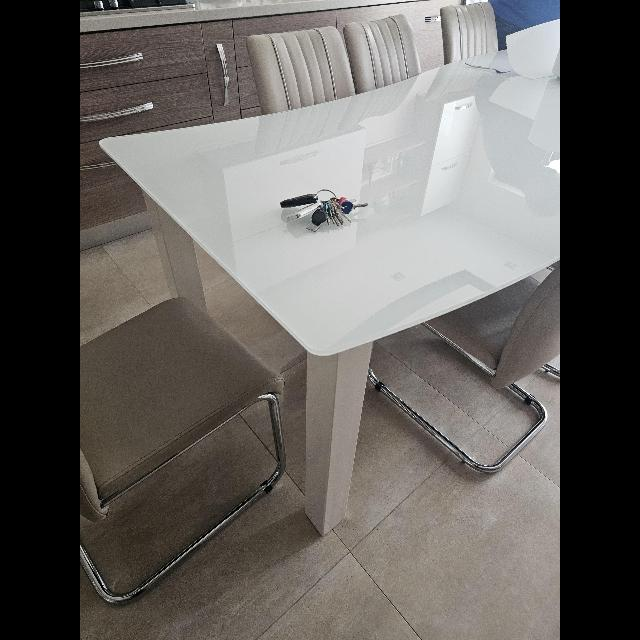Keys: (283, 191, 363, 233)
